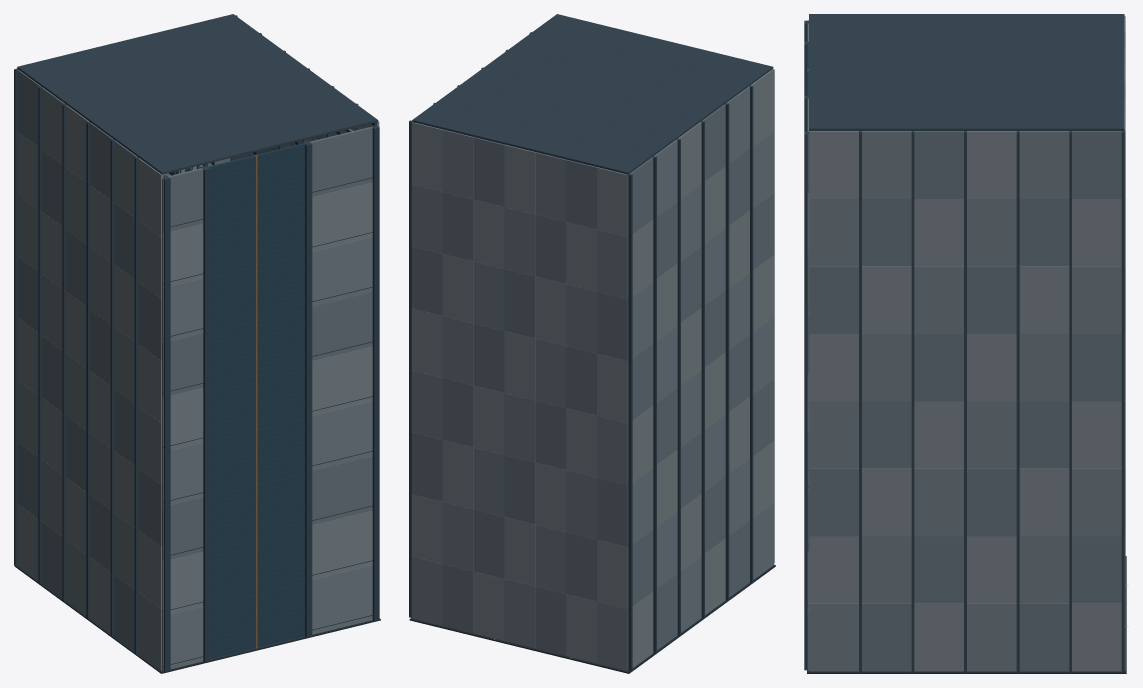
The model's file is assembly_hangar.glb.
The picture shows the model from 3 angles, left to right: view 1: azimuth 30°, elevation 25°; view 2: azimuth 150°, elevation 25°; view 3: azimuth 270°, elevation 25°; orthographic projection. The views are drawn at different scales.
Visible parts, largest first — view 1: jugre_vab.shell.roof_bay_5.mesh_Painted_steel, jugre_vab.shell.roof_bay_0.mesh_Painted_steel, jugre_vab.shell.roof_bay_3.mesh_Painted_steel, jugre_vab.shell.roof_bay_1.mesh_Painted_steel, jugre_vab.shell.roof_bay_2.mesh_Painted_steel, jugre_vab.shell.roof_bay_4.mesh_Painted_steel, jugre_vab.sectional_gate.facade_24.7_8.mesh_Galvanized_cladd, jugre_vab.sectional_gate.facade_24.7_6.mesh_Galvanized_cladd, jugre_vab.sectional_gate.facade_24.7_0.mesh_Galvanized_cladd, jugre_vab.sectional_gate.facade_24.7_1.mesh_Galvanized_cladd, jugre_vab.sectional_gate.facade_24.7_5.mesh_Galvanized_cladd, jugre_vab.sectional_gate.facade_24.7_4.mesh_Galvanized_cladd (+106 smaller); view 2: jugre_vab.shell.roof_bay_0.mesh_Painted_steel, jugre_vab.shell.roof_bay_3.mesh_Painted_steel, jugre_vab.shell.roof_bay_5.mesh_Painted_steel, jugre_vab.shell.roof_bay_4.mesh_Painted_steel, jugre_vab.shell.roof_bay_1.mesh_Painted_steel, jugre_vab.shell.roof_bay_2.mesh_Painted_steel, jugre_vab.shell.rear_7_4.mesh_Galvanized_cladding_3, jugre_vab.shell.rear_7_5.mesh_Galvanized_cladding_1, jugre_vab.shell.rear_7_6.mesh_Galvanized_cladding_2, jugre_vab.shell.rear_7_0.mesh_Galvanized_cladding_2, jugre_vab.shell.rear_7_3.mesh_Galvanized_cladding_2, jugre_vab.shell.rear_0_5.mesh_Galvanized_cladding_3 (+99 smaller); view 3: jugre_vab.shell.roof_bay_2.mesh_Painted_steel, jugre_vab.shell.roof_bay_4.mesh_Painted_steel, jugre_vab.shell.roof_bay_0.mesh_Painted_steel, jugre_vab.shell.roof_bay_1.mesh_Painted_steel, jugre_vab.shell.roof_bay_3.mesh_Painted_steel, jugre_vab.shell.roof_bay_5.mesh_Painted_steel, jugre_vab.shell.side_35_0_1.mesh_Galvanized_cladding_3, jugre_vab.shell.side_35_2_1.mesh_Galvanized_cladding_2, jugre_vab.shell.side_35_1_1.mesh_Galvanized_cladding_1, jugre_vab.shell.side_35_3_1.mesh_Galvanized_cladding_3, jugre_vab.shell.side_35_5_1.mesh_Galvanized_cladding_2, jugre_vab.shell.side_35_7_1.mesh_Galvanized_cladding_1 (+44 smaller).
Part boxes in pixels (bbox=[...]): jugre_vab.shell.roof_bay_5.mesh_Painted_steel: bbox=[138, 102, 378, 174]; jugre_vab.shell.roof_bay_0.mesh_Painted_steel: bbox=[17, 14, 256, 85]; jugre_vab.shell.roof_bay_3.mesh_Painted_steel: bbox=[89, 67, 329, 138]; jugre_vab.shell.roof_bay_1.mesh_Painted_steel: bbox=[41, 31, 280, 103]; jugre_vab.shell.roof_bay_2.mesh_Painted_steel: bbox=[65, 49, 305, 121]; jugre_vab.shell.roof_bay_4.mesh_Painted_steel: bbox=[114, 84, 353, 156]; jugre_vab.sectional_gate.facade_24.7_8.mesh_Galvanized_cladd: bbox=[310, 126, 378, 196]; jugre_vab.sectional_gate.facade_24.7_6.mesh_Galvanized_cladd: bbox=[312, 237, 372, 306]; jugre_vab.sectional_gate.facade_24.7_0.mesh_Galvanized_cladd: bbox=[312, 565, 372, 634]; jugre_vab.sectional_gate.facade_24.7_1.mesh_Galvanized_cladd: bbox=[312, 510, 372, 579]; jugre_vab.sectional_gate.facade_24.7_5.mesh_Galvanized_cladd: bbox=[312, 292, 372, 360]; jugre_vab.sectional_gate.facade_24.7_4.mesh_Galvanized_cladd: bbox=[312, 346, 372, 415]; jugre_vab.shell.roof_bay_0.mesh_Painted_steel: bbox=[412, 102, 652, 174]; jugre_vab.shell.roof_bay_3.mesh_Painted_steel: bbox=[485, 49, 724, 121]; jugre_vab.shell.roof_bay_5.mesh_Painted_steel: bbox=[533, 14, 773, 85]; jugre_vab.shell.roof_bay_4.mesh_Painted_steel: bbox=[509, 31, 748, 103]; jugre_vab.shell.roof_bay_1.mesh_Painted_steel: bbox=[437, 84, 676, 156]; jugre_vab.shell.roof_bay_2.mesh_Painted_steel: bbox=[461, 67, 700, 138]; jugre_vab.shell.rear_7_4.mesh_Galvanized_cladding_3: bbox=[473, 137, 504, 206]; jugre_vab.shell.rear_7_5.mesh_Galvanized_cladding_1: bbox=[442, 129, 473, 199]; jugre_vab.shell.rear_7_6.mesh_Galvanized_cladding_2: bbox=[411, 122, 442, 191]; jugre_vab.shell.rear_7_0.mesh_Galvanized_cladding_2: bbox=[597, 167, 628, 236]; jugre_vab.shell.rear_7_3.mesh_Galvanized_cladding_2: bbox=[504, 144, 535, 214]; jugre_vab.shell.rear_0_5.mesh_Galvanized_cladding_3: bbox=[442, 564, 473, 633]; jugre_vab.shell.roof_bay_2.mesh_Painted_steel: bbox=[966, 14, 1019, 130]; jugre_vab.shell.roof_bay_4.mesh_Painted_steel: bbox=[861, 14, 914, 130]; jugre_vab.shell.roof_bay_0.mesh_Painted_steel: bbox=[1072, 14, 1124, 130]; jugre_vab.shell.roof_bay_1.mesh_Painted_steel: bbox=[1019, 14, 1071, 130]; jugre_vab.shell.roof_bay_3.mesh_Painted_steel: bbox=[914, 14, 966, 130]; jugre_vab.shell.roof_bay_5.mesh_Painted_steel: bbox=[809, 14, 861, 130]; jugre_vab.shell.side_35_0_1.mesh_Galvanized_cladding_3: bbox=[1019, 603, 1069, 671]; jugre_vab.shell.side_35_2_1.mesh_Galvanized_cladding_2: bbox=[1019, 468, 1069, 536]; jugre_vab.shell.side_35_1_1.mesh_Galvanized_cladding_1: bbox=[1019, 536, 1069, 603]; jugre_vab.shell.side_35_3_1.mesh_Galvanized_cladding_3: bbox=[1019, 401, 1069, 468]; jugre_vab.shell.side_35_5_1.mesh_Galvanized_cladding_2: bbox=[1019, 266, 1069, 333]; jugre_vab.shell.side_35_7_1.mesh_Galvanized_cladding_1: bbox=[1019, 131, 1069, 198].
Bounding box in the file's own units: 63.8 × 137 × 74.12.
